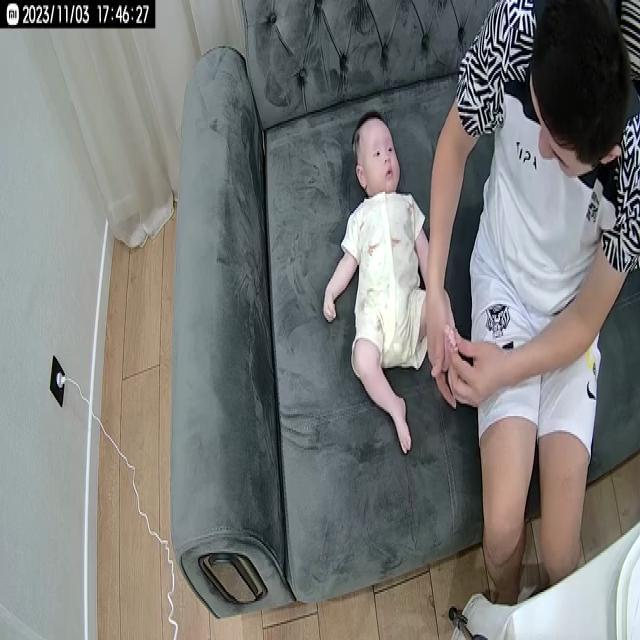baby: (320, 109, 460, 462)
